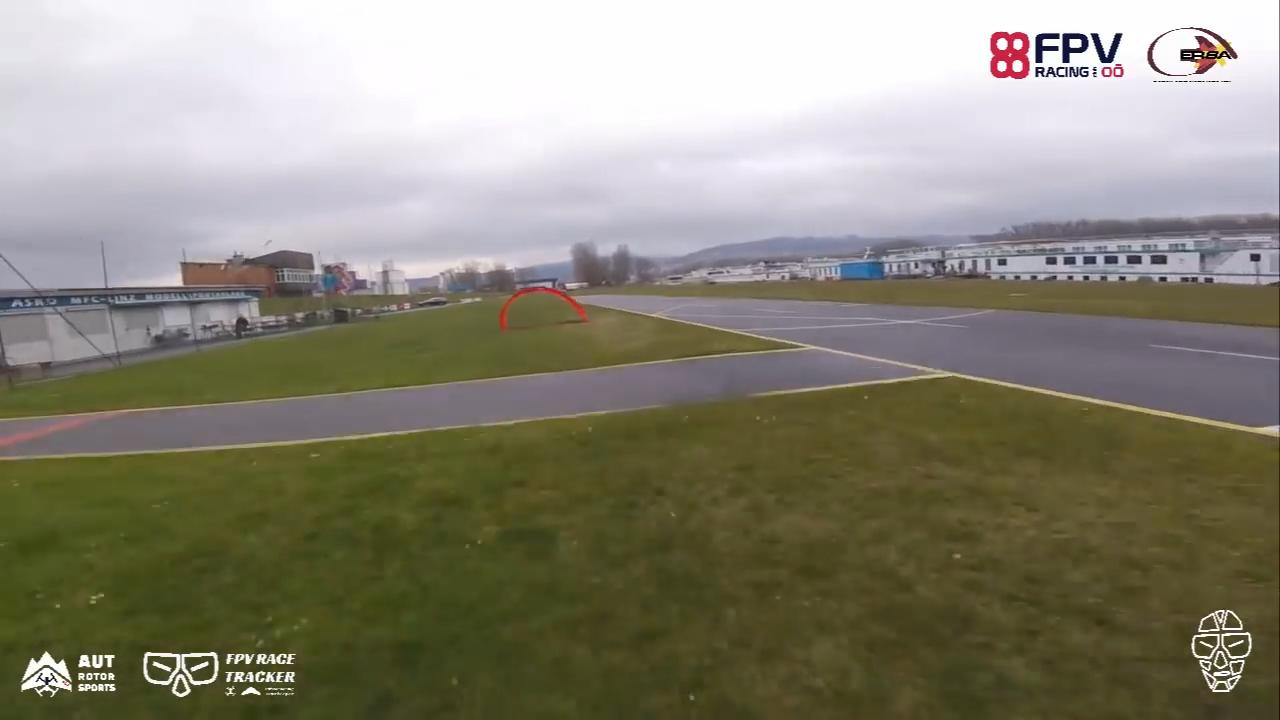gate: (497, 285, 591, 330)
